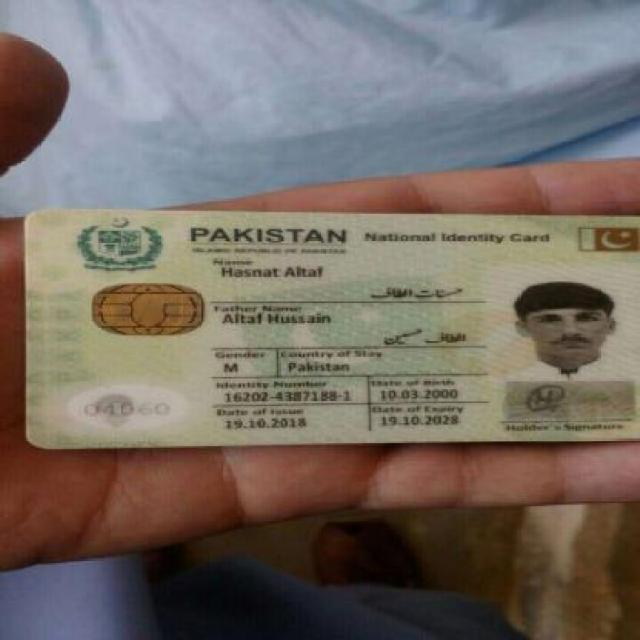Front: (4, 205, 634, 444)
